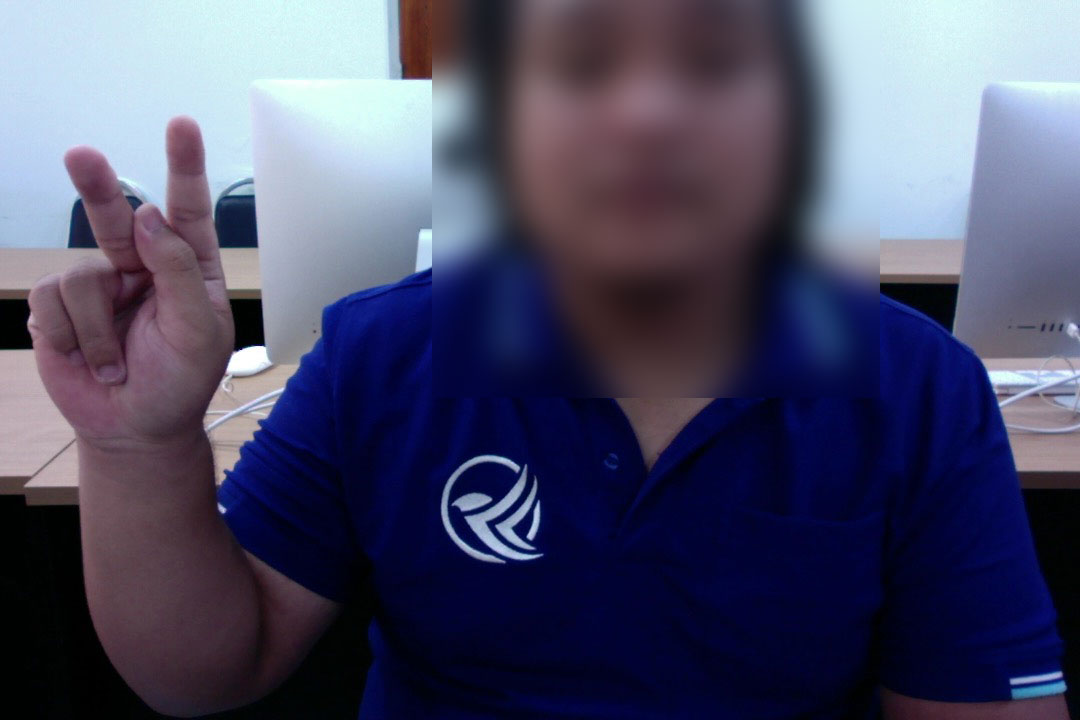ko: (11, 87, 246, 460)
